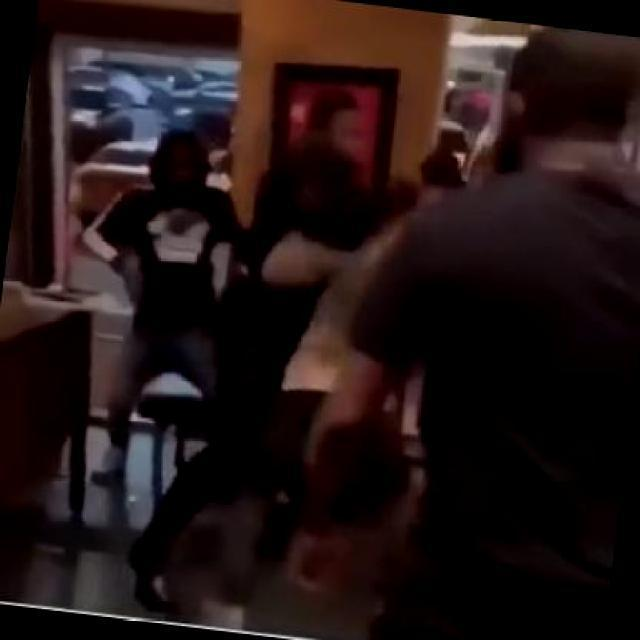non-fight: (52, 120, 246, 472)
